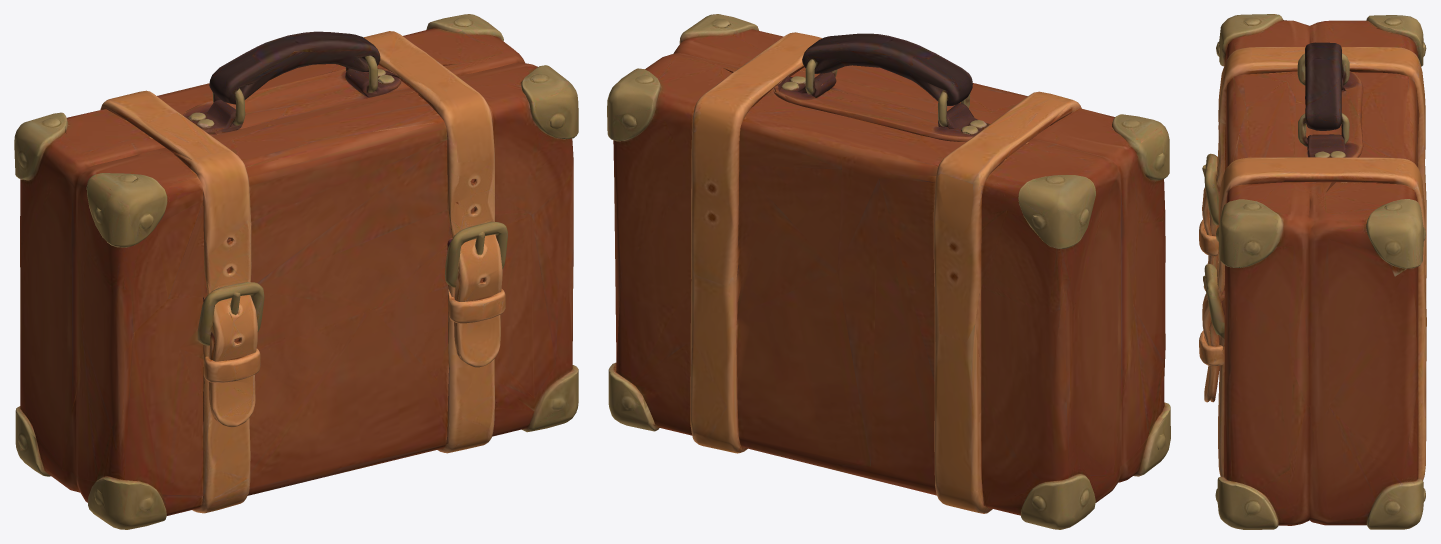
Rendered from suitcase.glb.
3 renders of one model, left to right at view 1: azimuth 30°, elevation 25°; view 2: azimuth 150°, elevation 25°; view 3: azimuth 270°, elevation 25°, orthographic. The views are drawn at different scales.
Bounding box in the file's own units: 1.9 × 1.56 × 0.8565.
Materials: 1 (1 with a texture image).
